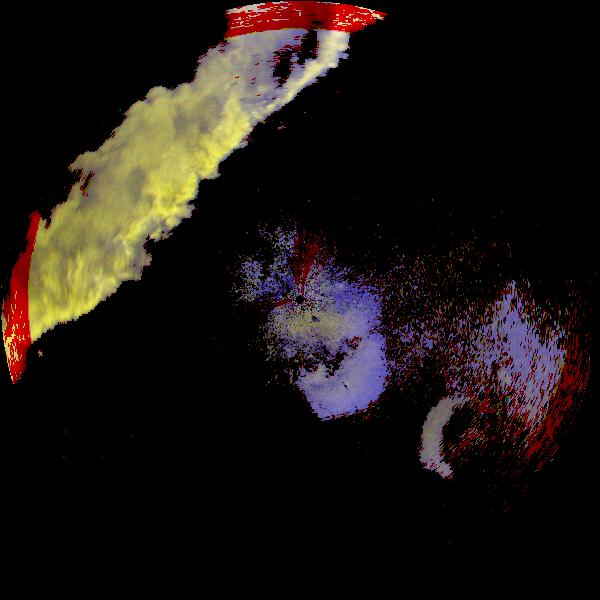roost: (222, 270, 414, 462), (400, 377, 526, 503)
